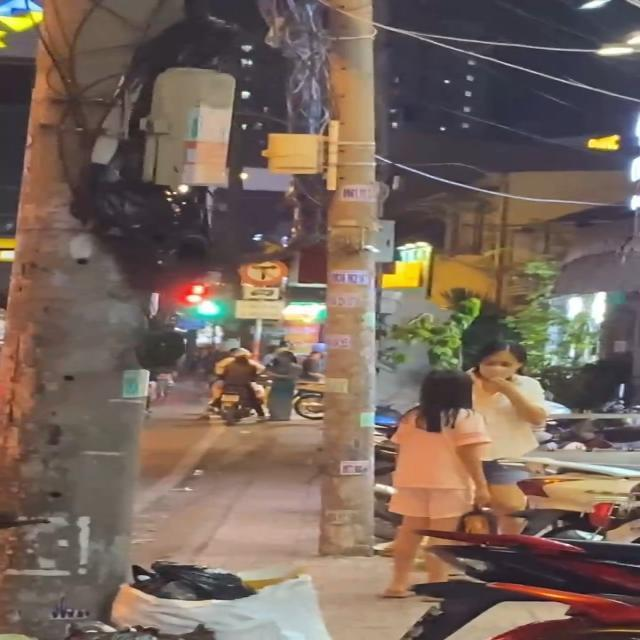137-cam-re-trai-va-re-phai: (238, 256, 289, 286)
